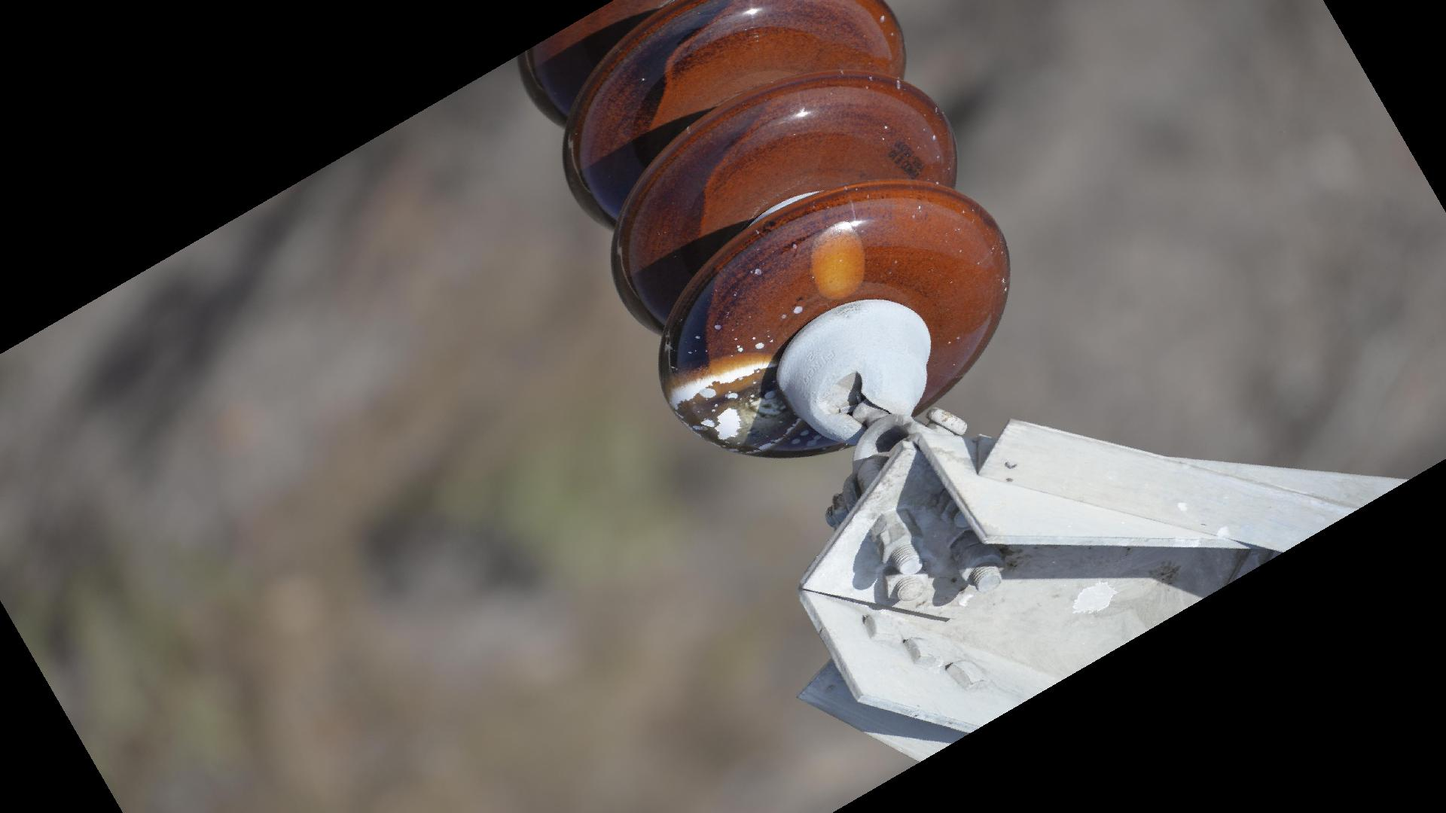insulator: (508, 1, 1021, 467)
insulator_flashover: (660, 359, 802, 455), (806, 218, 870, 303)
